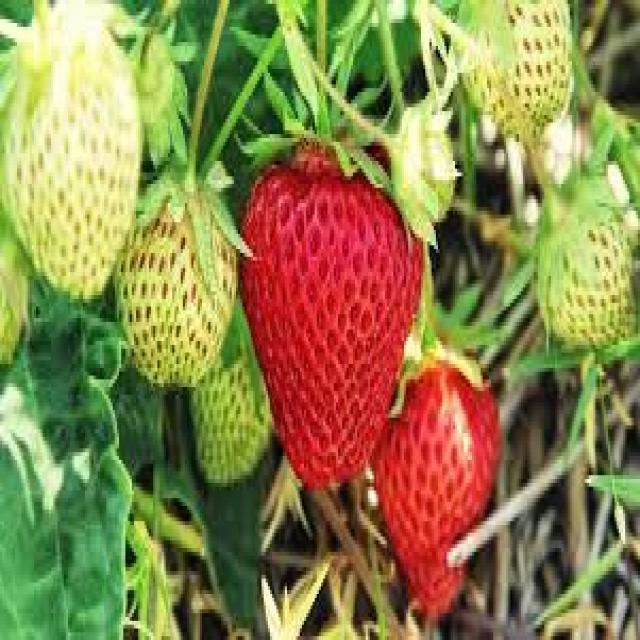Strawberry: (239, 146, 418, 480), (372, 346, 508, 622), (5, 28, 136, 300), (116, 188, 242, 380), (529, 176, 639, 356), (458, 0, 574, 145), (187, 347, 271, 486)
